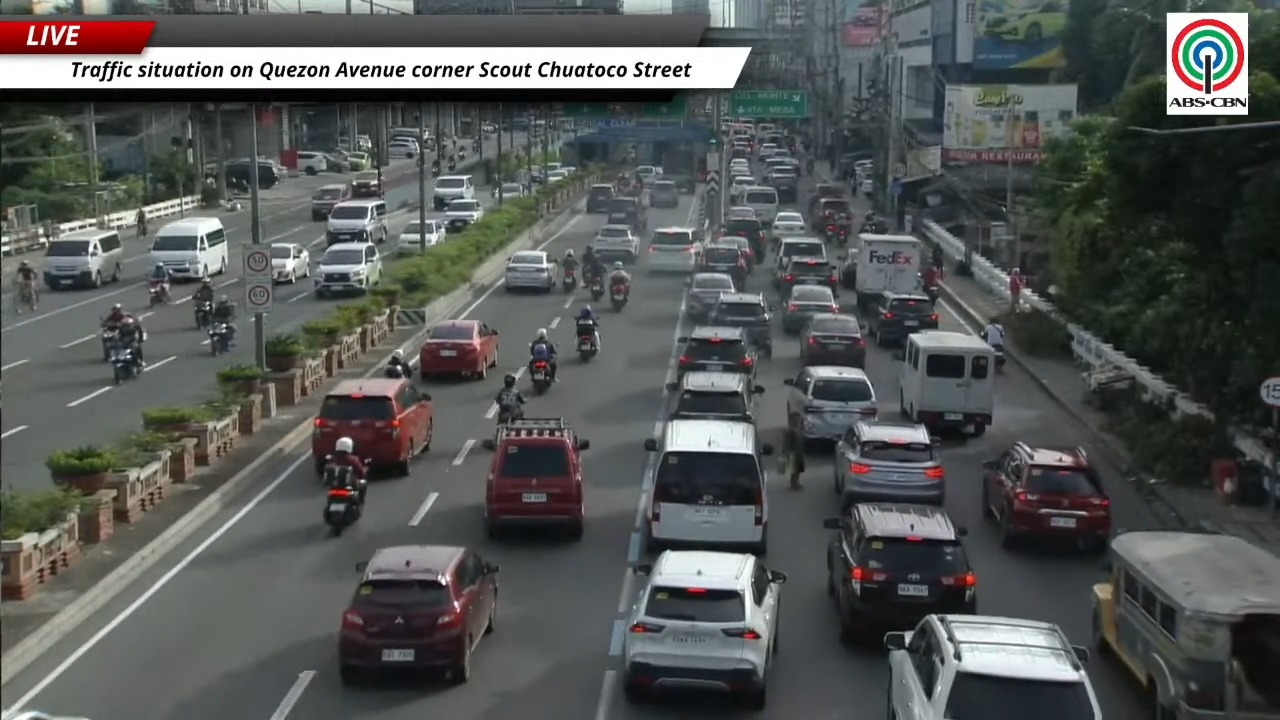car: (622, 550, 786, 708), (884, 614, 1102, 719), (337, 545, 498, 684), (823, 503, 975, 641), (981, 442, 1110, 551), (484, 418, 589, 538), (311, 378, 432, 475), (834, 420, 944, 507), (784, 366, 877, 441), (666, 372, 763, 421), (419, 319, 498, 379), (707, 292, 771, 357), (677, 326, 756, 377), (866, 292, 938, 345), (314, 242, 382, 298), (982, 0, 1066, 43), (800, 313, 865, 367), (325, 197, 388, 245), (781, 285, 839, 333), (776, 257, 839, 297), (646, 227, 702, 272), (685, 272, 736, 321), (504, 250, 555, 292), (722, 217, 766, 260), (592, 224, 638, 263), (774, 237, 827, 270), (700, 239, 750, 272), (711, 235, 756, 271), (270, 243, 310, 283), (397, 218, 444, 252), (811, 197, 853, 234), (311, 183, 351, 220), (432, 175, 474, 210), (606, 196, 646, 232), (444, 198, 484, 232), (763, 164, 798, 201), (808, 183, 845, 214), (771, 211, 807, 239), (586, 183, 614, 213), (728, 170, 756, 199), (650, 179, 679, 207), (0, 710, 88, 719), (351, 172, 382, 197), (296, 151, 328, 175), (388, 138, 419, 158), (491, 182, 526, 199), (633, 165, 661, 186), (324, 150, 350, 172), (346, 151, 369, 171), (725, 206, 757, 220), (728, 165, 752, 183), (758, 143, 777, 161), (547, 169, 569, 183), (729, 157, 749, 172), (858, 176, 873, 195), (559, 165, 577, 174)
motorcycle: (320, 455, 366, 504), (481, 405, 523, 450), (324, 487, 361, 536), (109, 342, 140, 384), (207, 321, 231, 355), (529, 360, 552, 394), (577, 328, 598, 361), (101, 326, 118, 361), (194, 300, 212, 329), (149, 281, 168, 307), (610, 285, 627, 311), (562, 268, 577, 293), (589, 278, 604, 301), (824, 224, 841, 244), (384, 364, 408, 378), (923, 283, 939, 304), (993, 346, 1005, 372), (447, 161, 455, 172), (473, 141, 480, 153)
truck: (853, 234, 923, 311), (653, 142, 704, 193)
